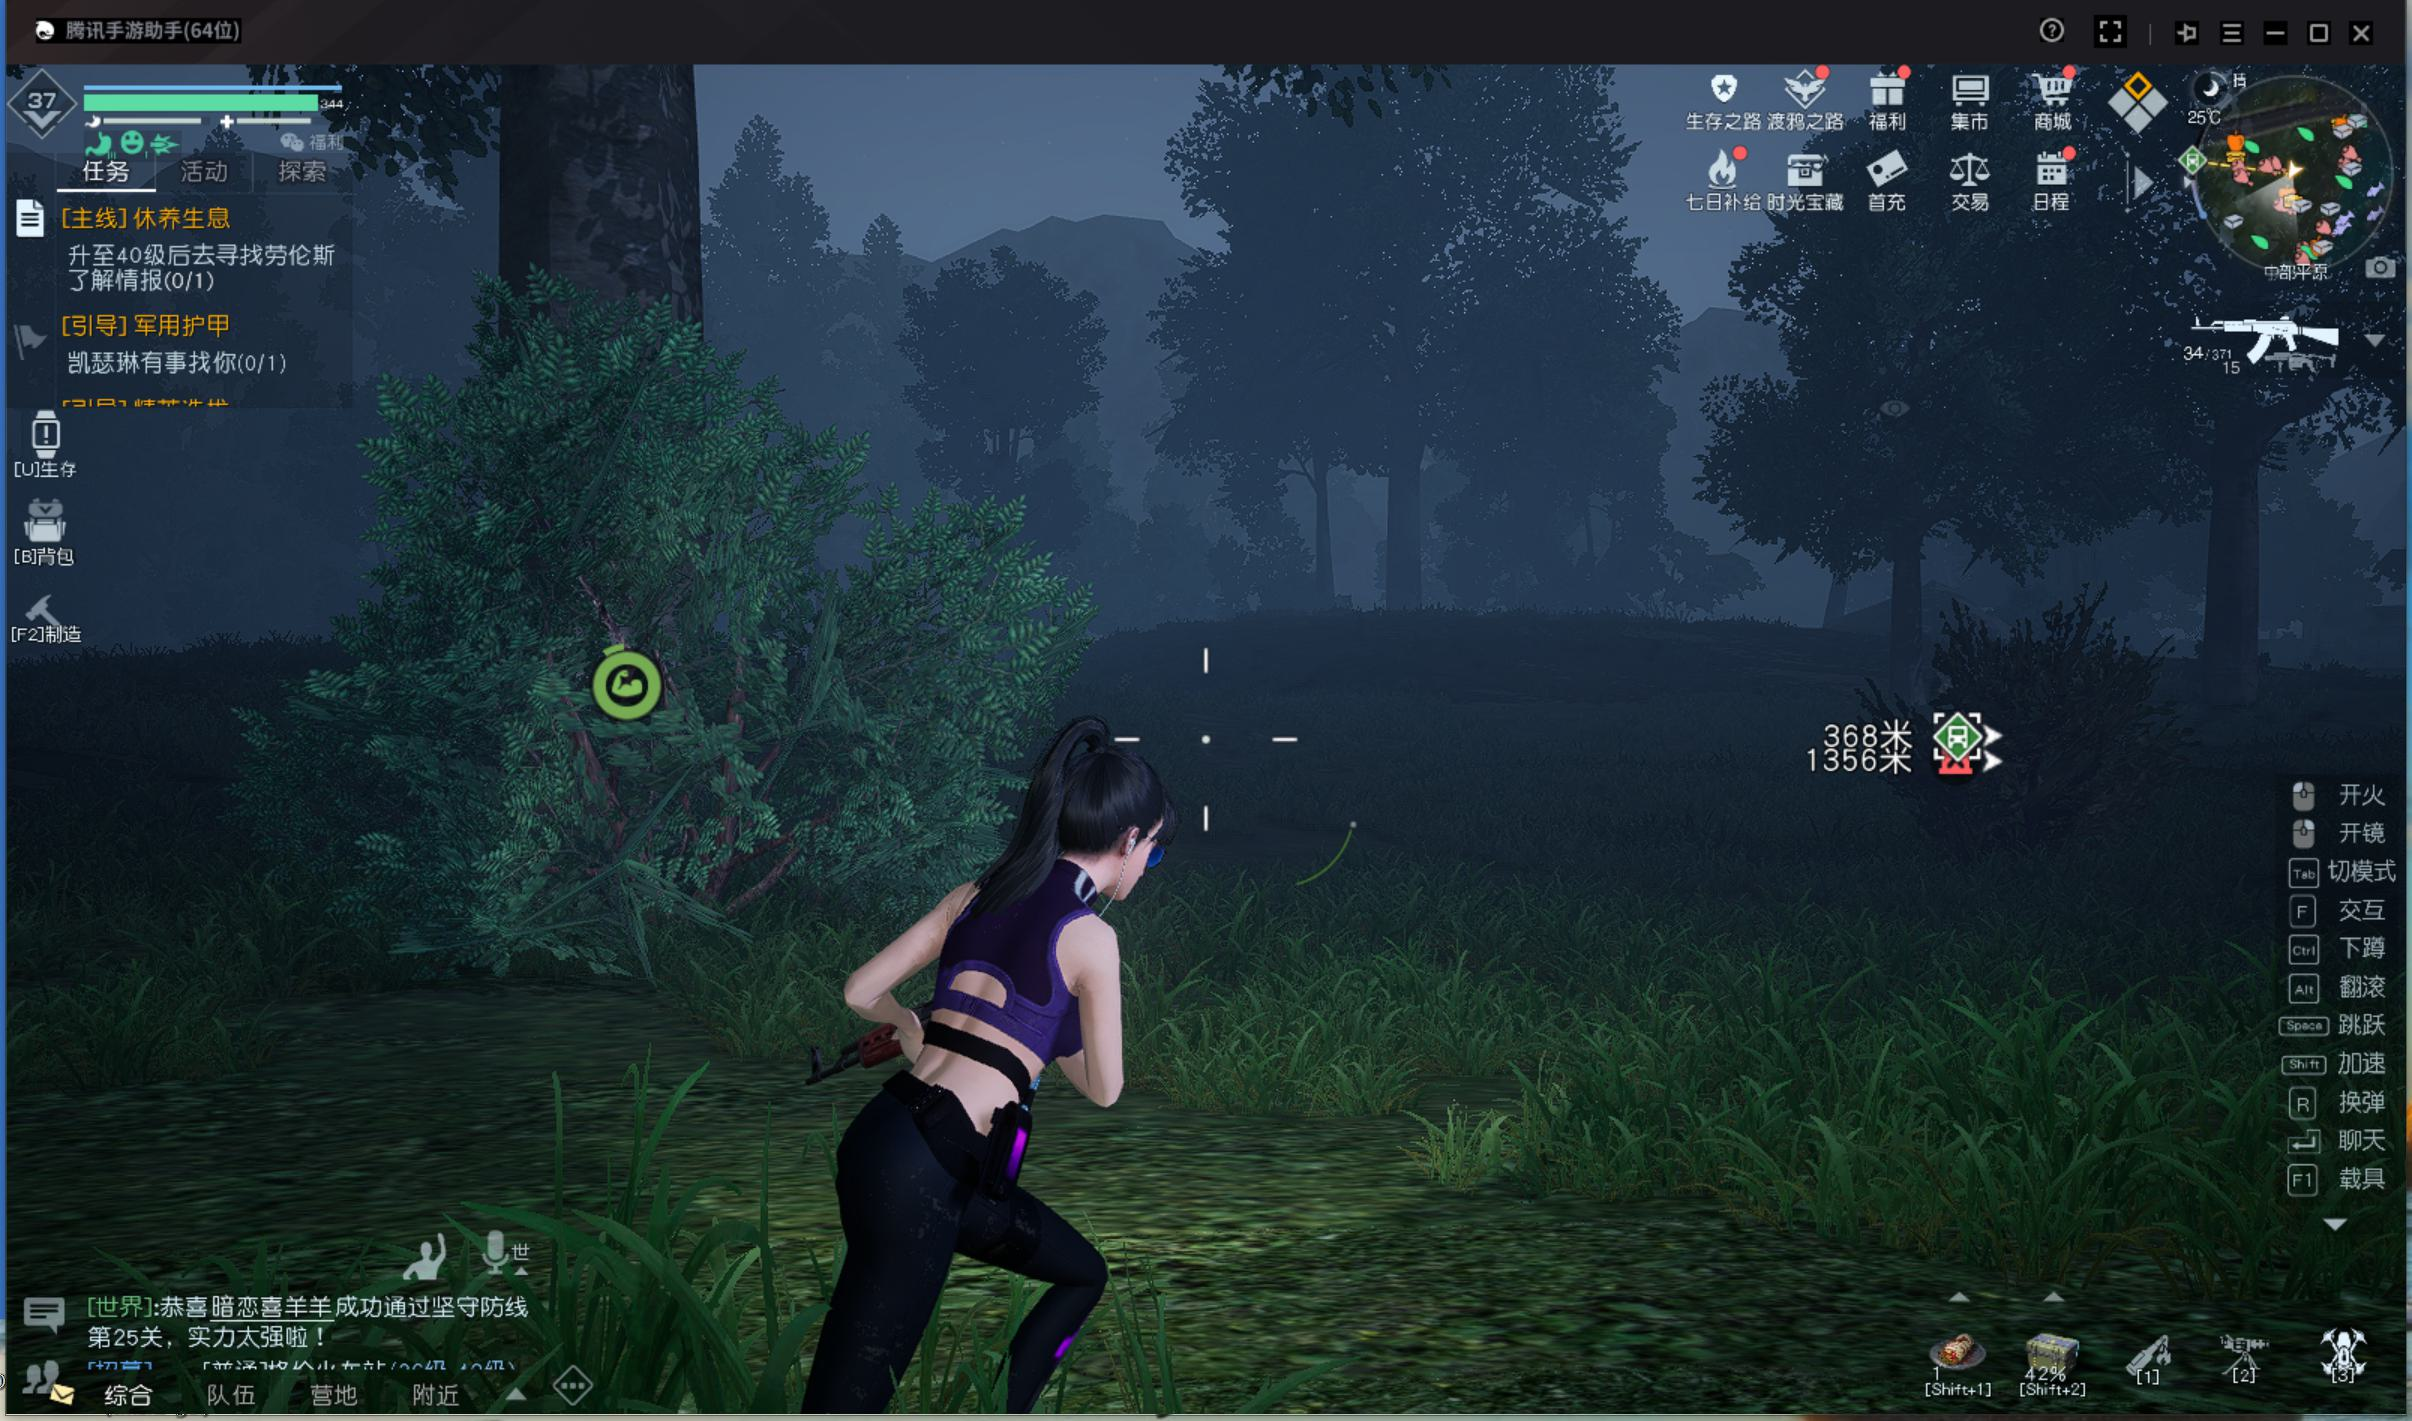tree: (477, 107, 744, 871), (2199, 458, 2267, 680), (1379, 443, 1428, 633), (1879, 546, 1928, 672), (1306, 480, 1345, 617), (1822, 563, 1850, 638)
